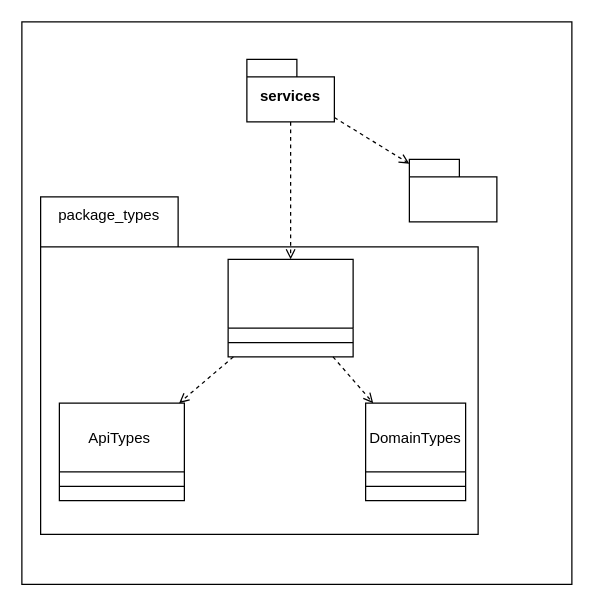
Image size: 594x606. Some labels were removed from this diagram. The centre of each missing label's shape, as x and y in pixels:
"api" belongs at point (452, 190).
"Mapper" belongs at point (290, 307).
